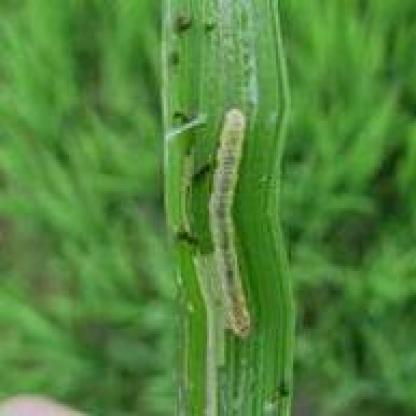leaf-folder: (196, 99, 275, 354)
